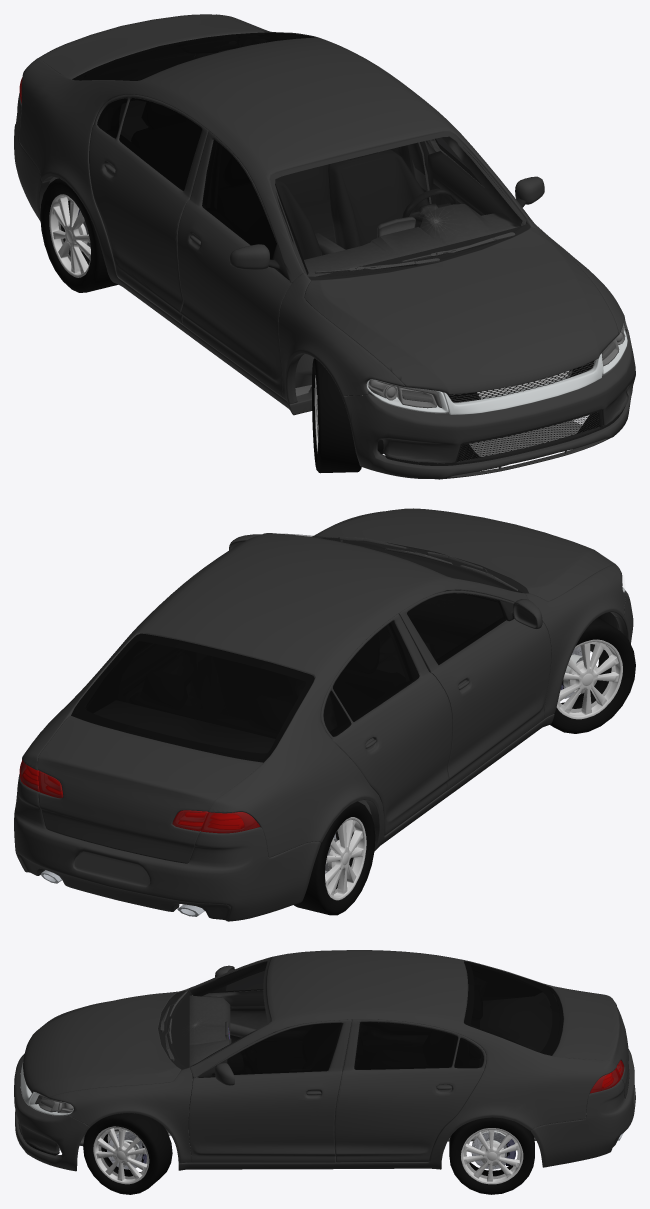
The model's file is c3367db3-59ac-4831-95c4-fad2c9ab6c38.glb.
3 renders of one model, top to bottom at view 1: azimuth 30°, elevation 25°; view 2: azimuth 150°, elevation 25°; view 3: azimuth 270°, elevation 25°, orthographic. The views are drawn at different scales.
Parts seen in each view (by area): view 1: sedan-unibody_65, hood_60, windshield_102, bumper-front_8, door-front-r_17, door-rear-r_23, fender-front-r_33, front-seat-backrest_39, dashboard_13, trunk_99, door-rear-window-glass-r_27, door-front-window-glass-r_19 (+21 smaller); view 2: sedan-unibody_65, glass-rear_42, trunk_99, bumper-rear_10, door-front-r_17, door-rear-r_23, hood_60, fender-front-r_33, door-rear-window-glass-r_27, door-front-window-glass-r_19, generic-wheel.001_126, generic-tire-low.001_125 (+8 smaller); view 3: sedan-unibody_65, door-front-l_16, door-rear-l_22, hood_60, windshield_102, glass-rear_42, fender-front-l_32, bumper-rear_10, trunk_99, door-rear-window-glass-l_26, door-front-window-glass-l_18, bumper-front_8 (+14 smaller).
Boxes of the visible parts, x1,y1,x2,y2 form: sedan-unibody_65: (19, 14, 533, 415); hood_60: (304, 227, 618, 394); windshield_102: (270, 132, 527, 276); bumper-front_8: (342, 328, 635, 479); door-front-r_17: (177, 131, 291, 396); door-rear-r_23: (89, 94, 208, 323); fender-front-r_33: (278, 273, 404, 404); front-seat-backrest_39: (328, 149, 428, 249); dashboard_13: (304, 204, 520, 276); trunk_99: (39, 14, 264, 79); door-rear-window-glass-r_27: (119, 98, 201, 190); door-front-window-glass-r_19: (202, 139, 276, 259); sedan-unibody_65: (20, 533, 554, 857); glass-rear_42: (71, 633, 314, 762); trunk_99: (37, 715, 263, 863); bumper-rear_10: (14, 774, 320, 921); door-front-r_17: (398, 590, 551, 790); door-rear-r_23: (321, 614, 452, 835); hood_60: (312, 508, 615, 601); fender-front-r_33: (525, 564, 625, 718); door-rear-window-glass-r_27: (333, 621, 419, 721); door-front-window-glass-r_19: (407, 593, 505, 664); generic-wheel.001_126: (556, 639, 622, 719); generic-tire-low.001_125: (550, 617, 635, 733); sedan-unibody_65: (178, 950, 621, 1170); door-front-l_16: (188, 1019, 351, 1162); door-rear-l_22: (334, 1019, 486, 1162); hood_60: (23, 991, 181, 1098); windshield_102: (167, 958, 270, 1068); glass-rear_42: (464, 961, 563, 1055); fender-front-l_32: (49, 1067, 192, 1163); bumper-rear_10: (530, 1049, 635, 1167); trunk_99: (552, 987, 629, 1098); door-rear-window-glass-l_26: (354, 1022, 457, 1069); door-front-window-glass-l_18: (227, 1023, 342, 1074); bumper-front_8: (14, 1054, 89, 1171).
Bounding box in the file's own units: 2.16 × 1.5 × 4.98.
Materials: 23 (5 with a texture image).
